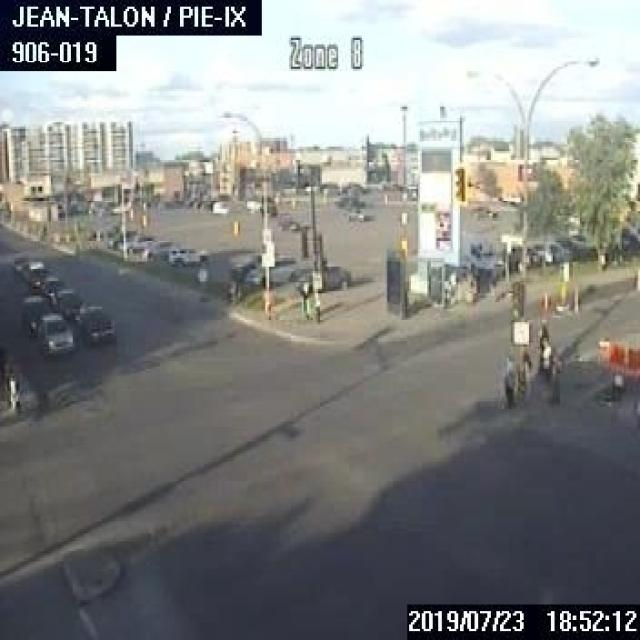construction: (595, 335, 638, 409)
pedestrian: (545, 346, 563, 402), (499, 345, 514, 405), (537, 319, 550, 371), (4, 365, 18, 411), (298, 273, 311, 320)
vehicle: (35, 312, 74, 354), (75, 304, 115, 342), (246, 254, 296, 284), (298, 264, 348, 290), (20, 293, 50, 335), (503, 243, 537, 271), (51, 288, 84, 316), (40, 276, 67, 310), (168, 244, 207, 265), (231, 251, 258, 279), (119, 232, 155, 250), (20, 259, 44, 285), (530, 242, 561, 262), (141, 238, 173, 257), (107, 228, 135, 247), (569, 233, 595, 251), (276, 212, 300, 228), (331, 194, 363, 206), (11, 252, 26, 270)
